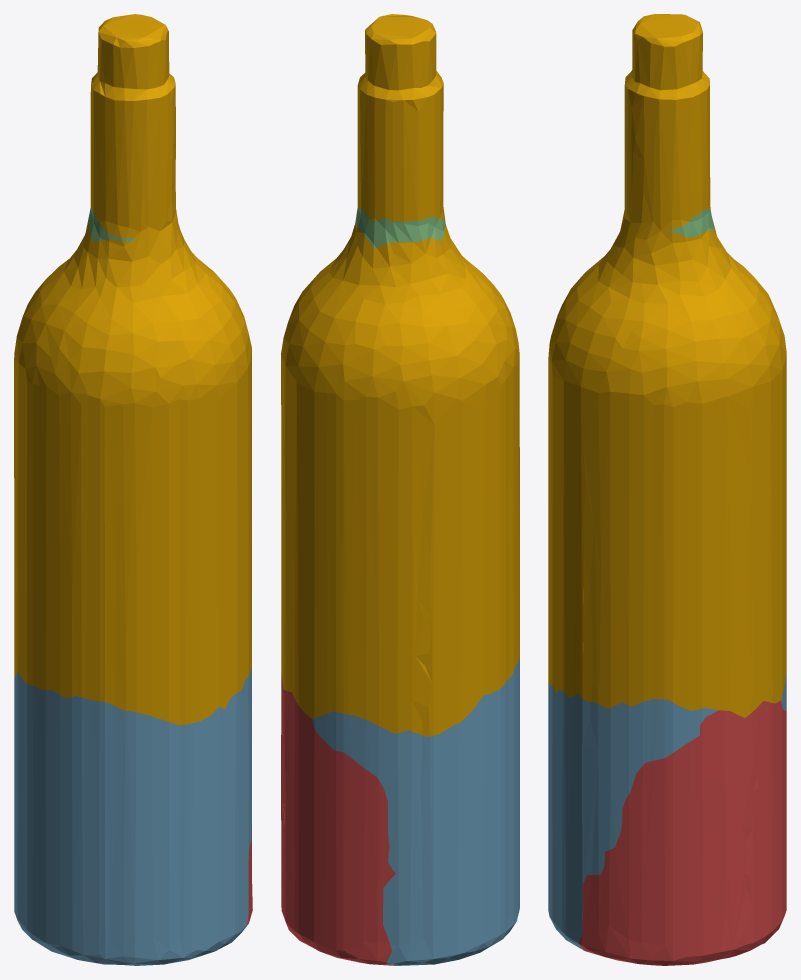
Rendered from fractured_30_4pcs.glb.
The picture shows the model from 3 angles, left to right: view 1: azimuth 30°, elevation 25°; view 2: azimuth 150°, elevation 25°; view 3: azimuth 270°, elevation 25°; orthographic projection.
Parts seen in each view (by area): view 1: piece_0.obj, piece_2.obj; view 2: piece_0.obj, piece_2.obj, piece_1.obj, piece_3.obj; view 3: piece_0.obj, piece_1.obj, piece_2.obj, piece_3.obj.
Boxes of the visible parts, x1,y1,x2,y2 form: piece_0.obj: (14, 14, 251, 725); piece_2.obj: (14, 667, 251, 965); piece_0.obj: (281, 14, 519, 736); piece_2.obj: (312, 656, 519, 965); piece_1.obj: (281, 672, 396, 965); piece_3.obj: (355, 206, 445, 247); piece_0.obj: (548, 14, 786, 717); piece_1.obj: (579, 700, 786, 965); piece_2.obj: (548, 672, 786, 950); piece_3.obj: (668, 208, 714, 237).
Bounding box in the file's own units: 0.2415 × 1 × 0.2415.
